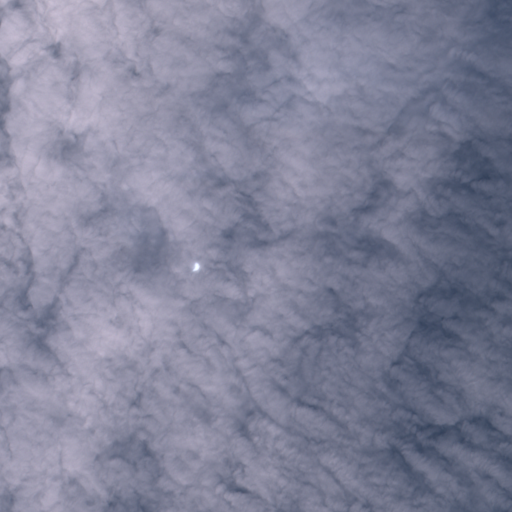Iceberg: (193, 263, 198, 270)
